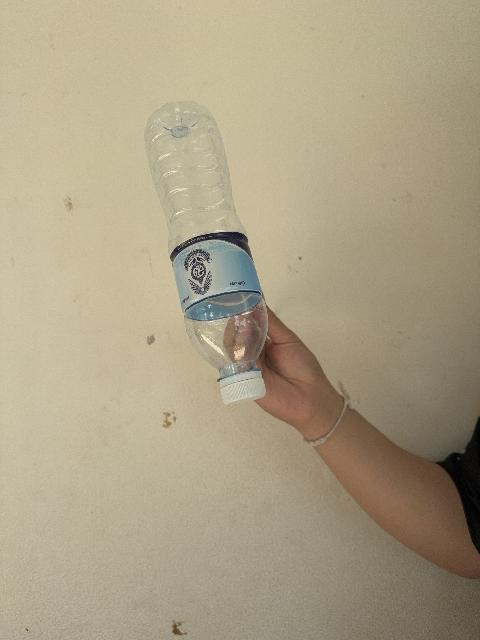bottle: (145, 102, 267, 404)
